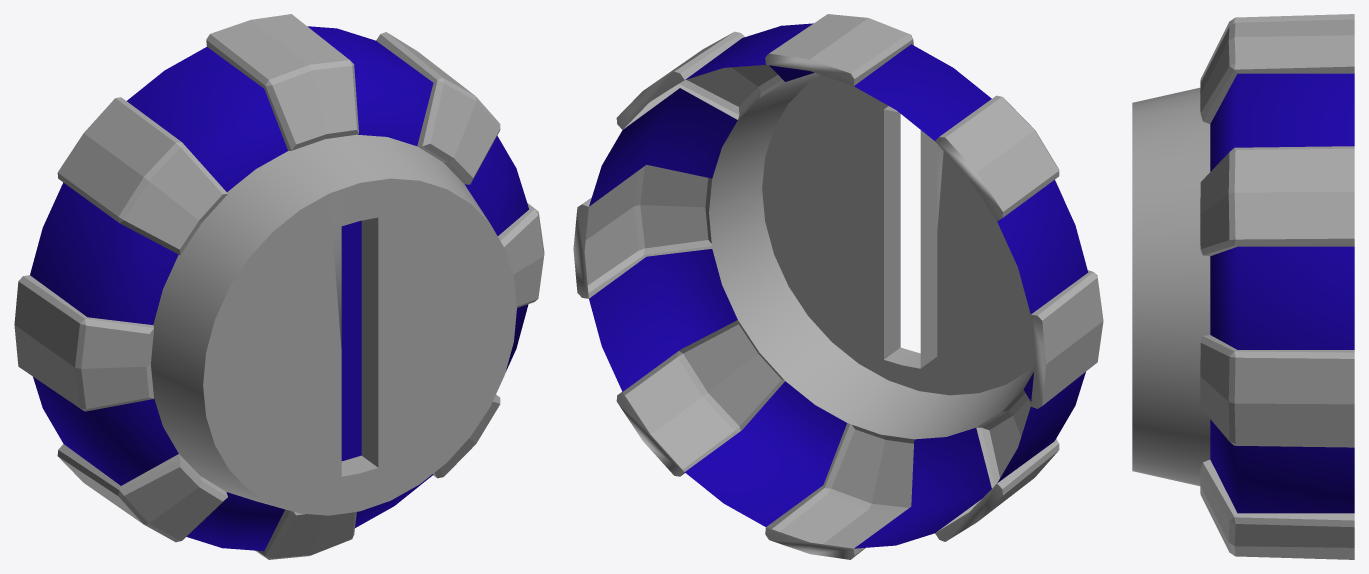
File: Geo_button.fbx
3 renders of one model, left to right at view 1: azimuth 30°, elevation 25°; view 2: azimuth 150°, elevation 25°; view 3: azimuth 270°, elevation 25°, orthographic.
Visible parts, largest first — view 1: Geo_Button; view 2: Geo_Button; view 3: Geo_Button.
Part boxes in pixels (x1,y1,x2,y2): Geo_Button: [14, 14, 544, 559]; Geo_Button: [573, 14, 1103, 559]; Geo_Button: [1132, 14, 1354, 559].
Size of the model in its own units: 21.16 by 21.16 by 8.46.
